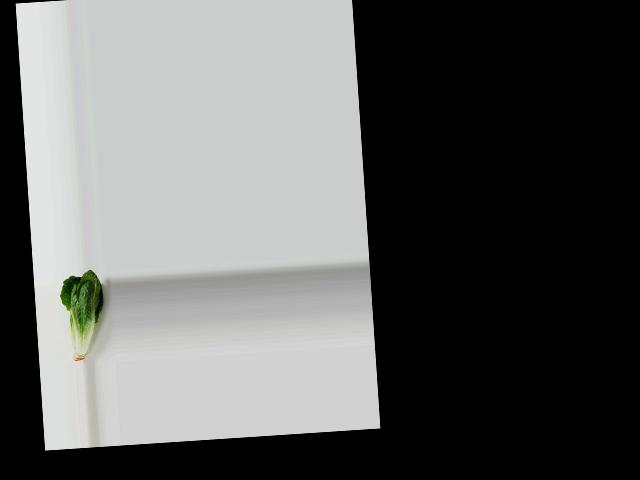lettuce: (57, 268, 109, 366)
